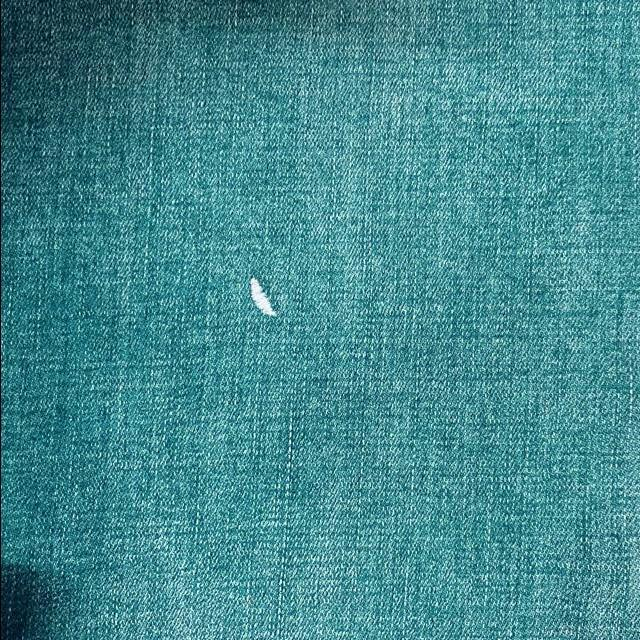Knot: (248, 277, 275, 316)
